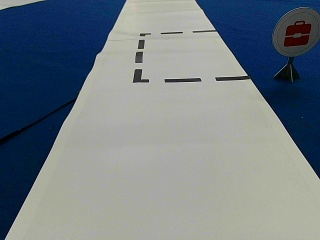company: (273, 6, 319, 55)
